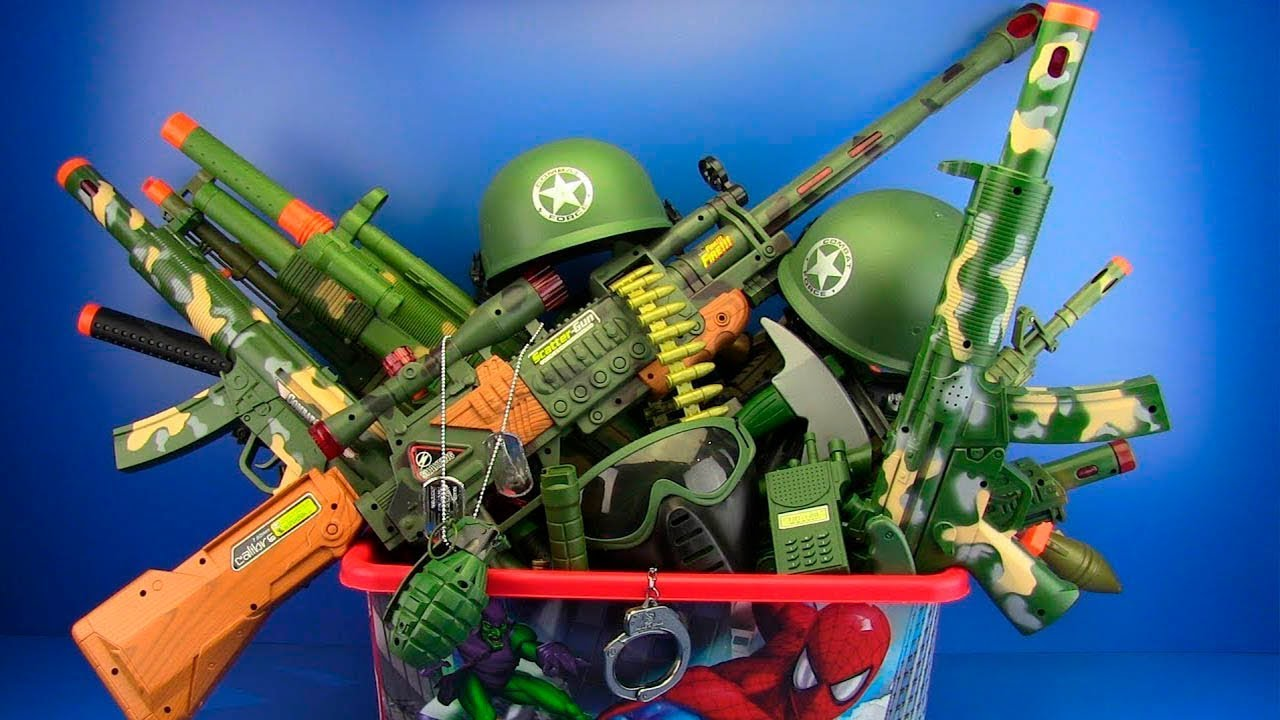Arma Falsa: (861, 1, 1100, 637), (47, 154, 362, 466), (136, 95, 480, 369)
